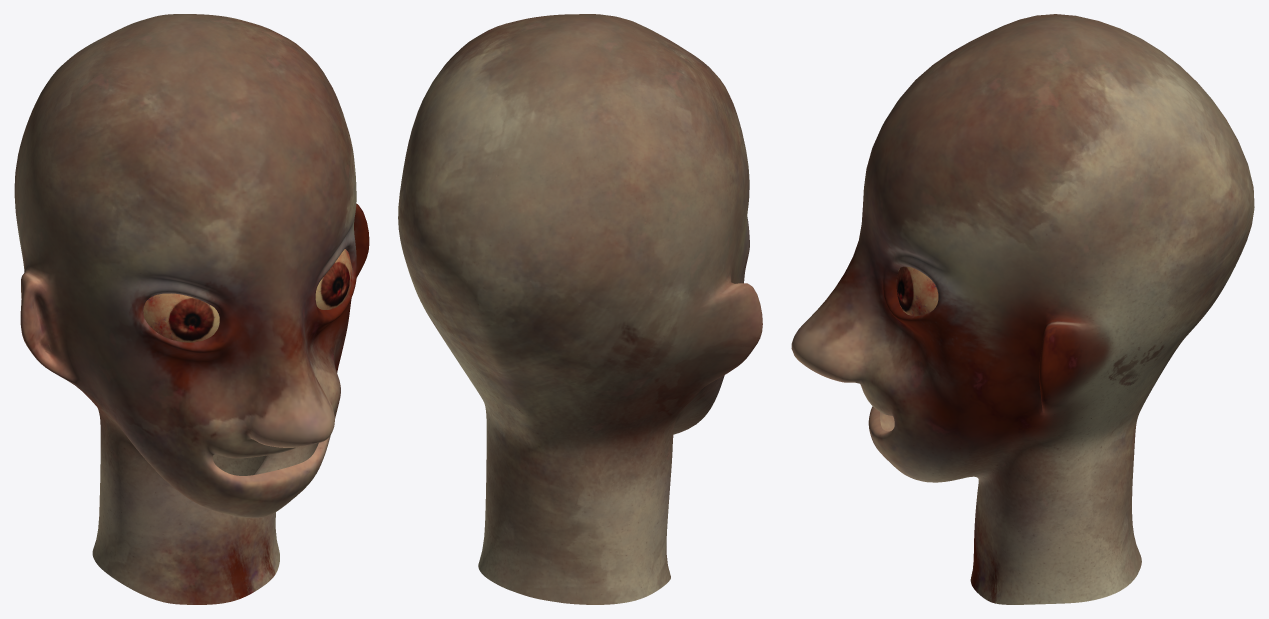
The model's file is testing3.glb.gltf.
3 renders of one model, left to right at view 1: azimuth 30°, elevation 25°; view 2: azimuth 150°, elevation 25°; view 3: azimuth 270°, elevation 25°, orthographic. The views are drawn at different scales.
Parts seen in each view (by area): view 1: Body.001; view 2: Body.001; view 3: Body.001.
Boxes of the visible parts, x1,y1,x2,y2 form: Body.001: [14, 14, 369, 604]; Body.001: [398, 14, 762, 604]; Body.001: [791, 14, 1254, 604].
Bounding box in the file's own units: 0.3536 × 0.53 × 0.4035.
Materials: 2 (2 with a texture image).
